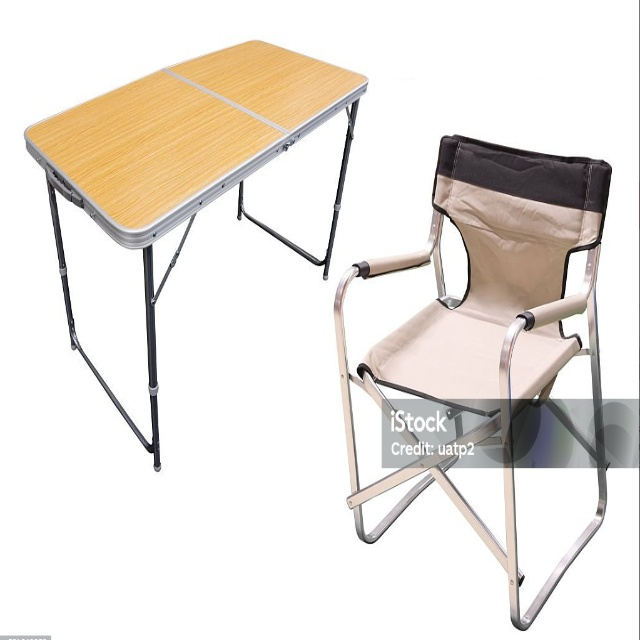obstacle: (24, 39, 372, 474), (333, 131, 617, 626)
